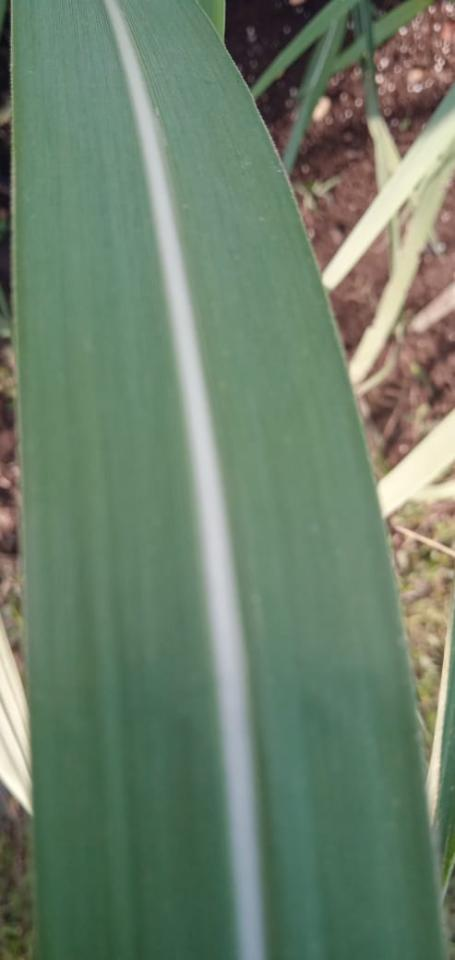Healthy: (13, 0, 445, 959)
